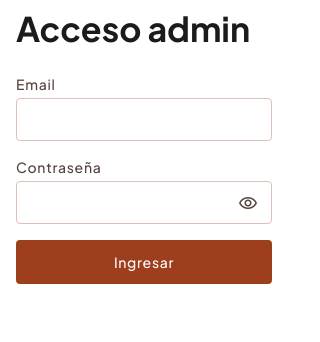
Test: AdminLogin › anuncia el fallo de login como alerta
This screenshot has width=320, height=342.
Type "admin@yima.test" into the field labelled "Email" at (144, 120), box [16,98,272,141]
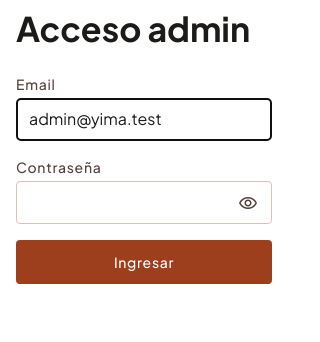
Type "secreta" into the password field labelled "Contraseña" at (144, 203), box [16,181,272,224]
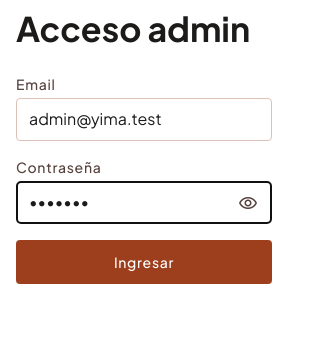
Click the button "Ingresar" at (144, 262), box [16,240,272,284]
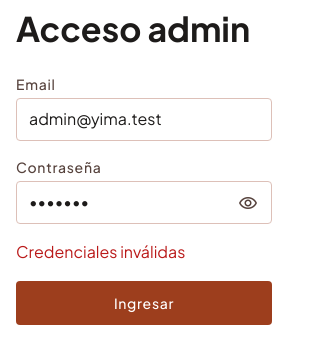
Check: the message reads "Credenciales inválidas", box [16,241,185,262]
